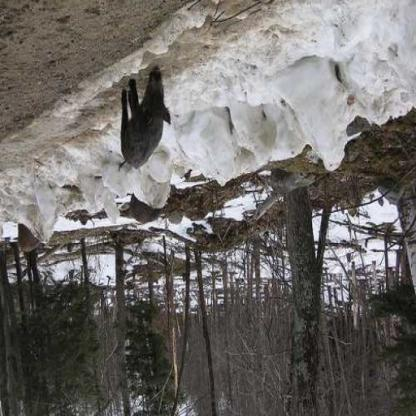boar: (99, 55, 172, 198)
